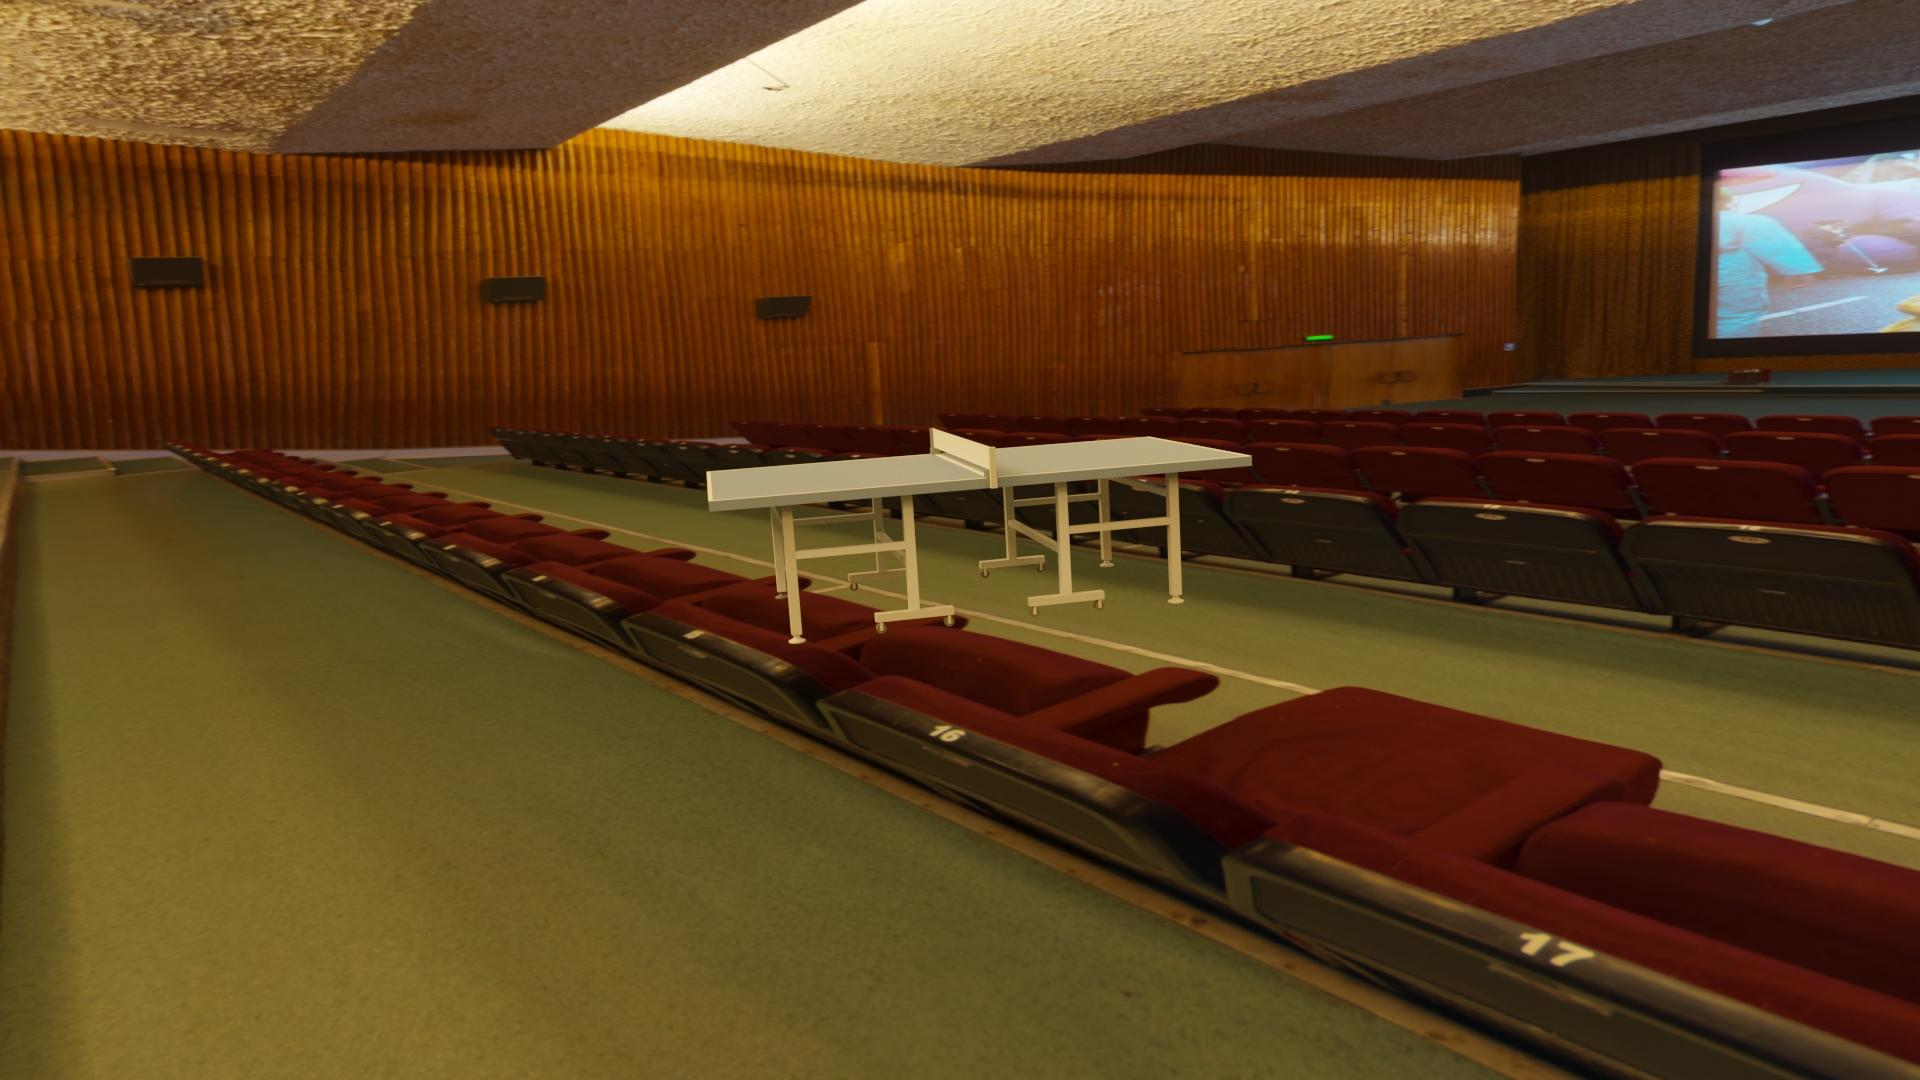table: (711, 438, 1246, 500)
